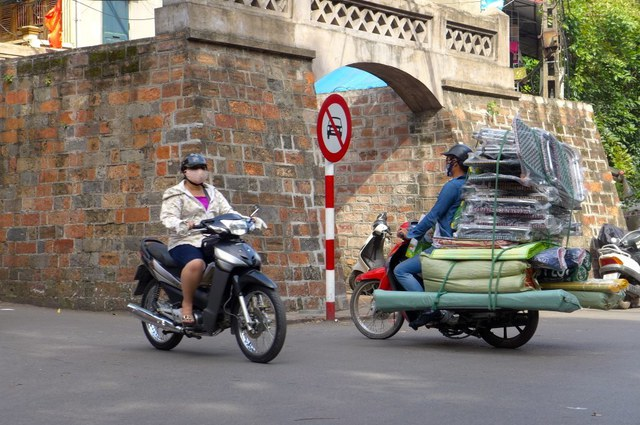helmet: (181, 152, 207, 173), (443, 145, 473, 162)
